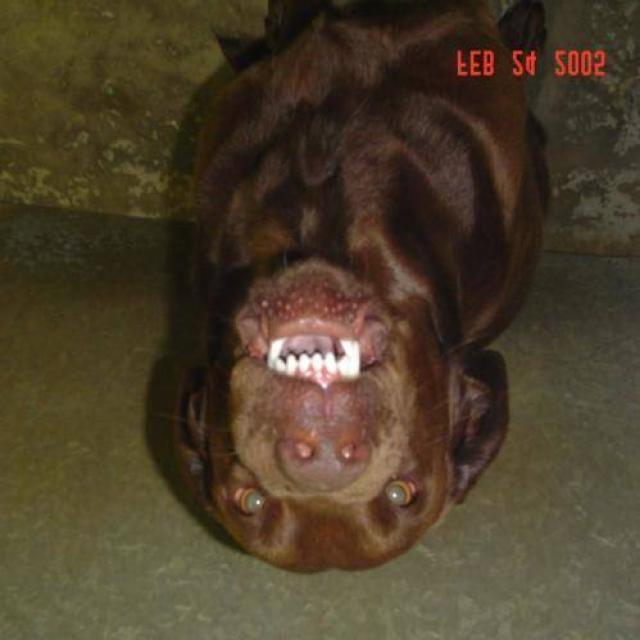dog: (147, 0, 578, 575)
